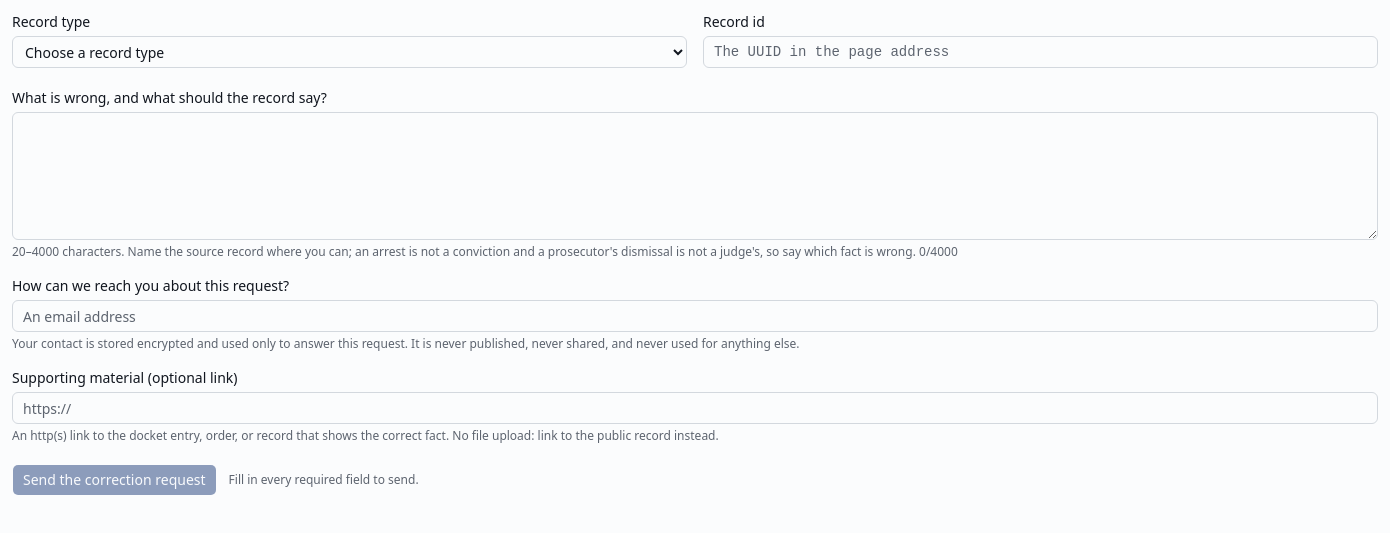
Test case: CorrectionForm › offers an editable target when nothing is prefilled
Select "Court" in the dropdown with test id "target-type" at (350, 52), box [12, 36, 687, 68]
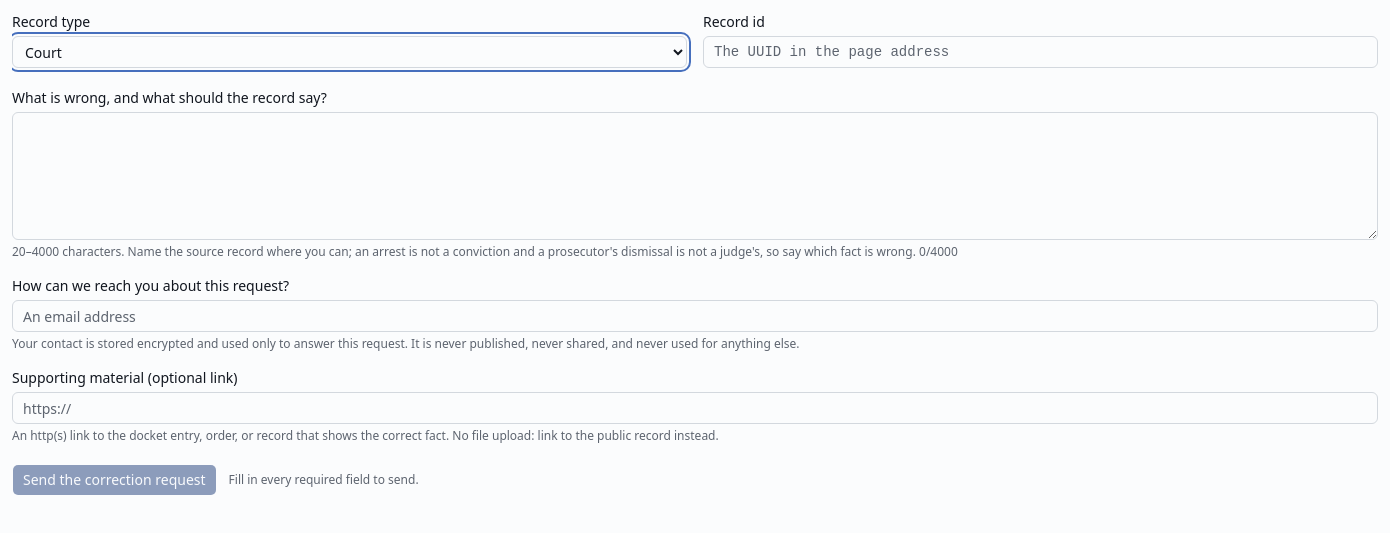
Type "not-a-uuid" into the field with test id "target-id".
click(1040, 52); type("not-a-uuid")  # box [703, 36, 1378, 68]
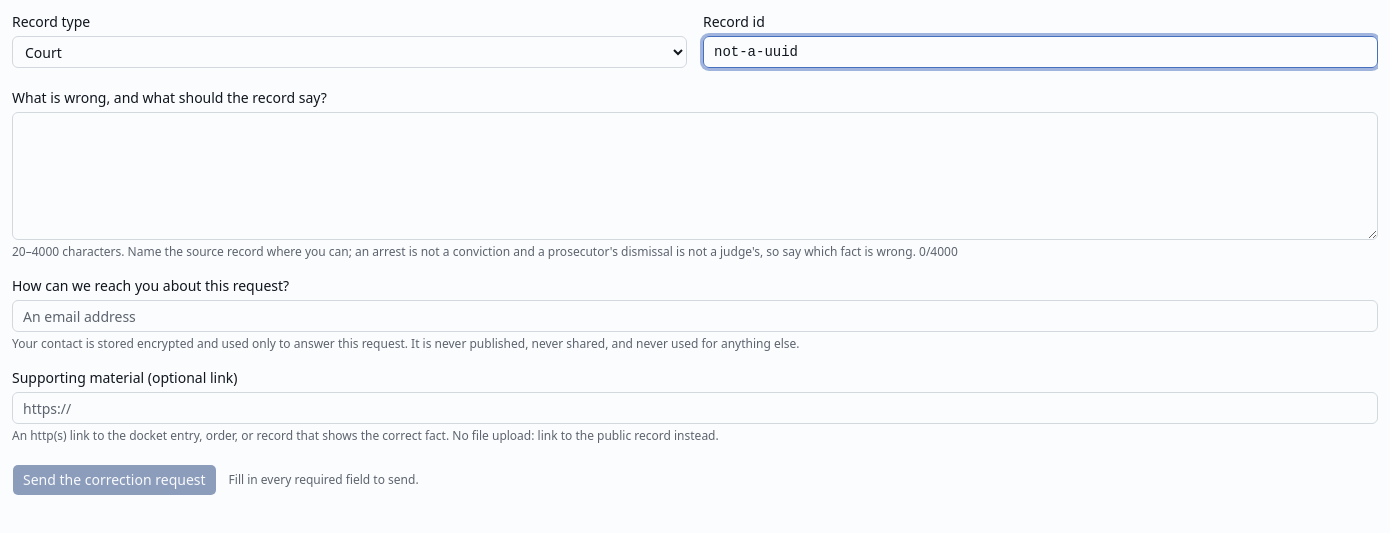
Press Tab
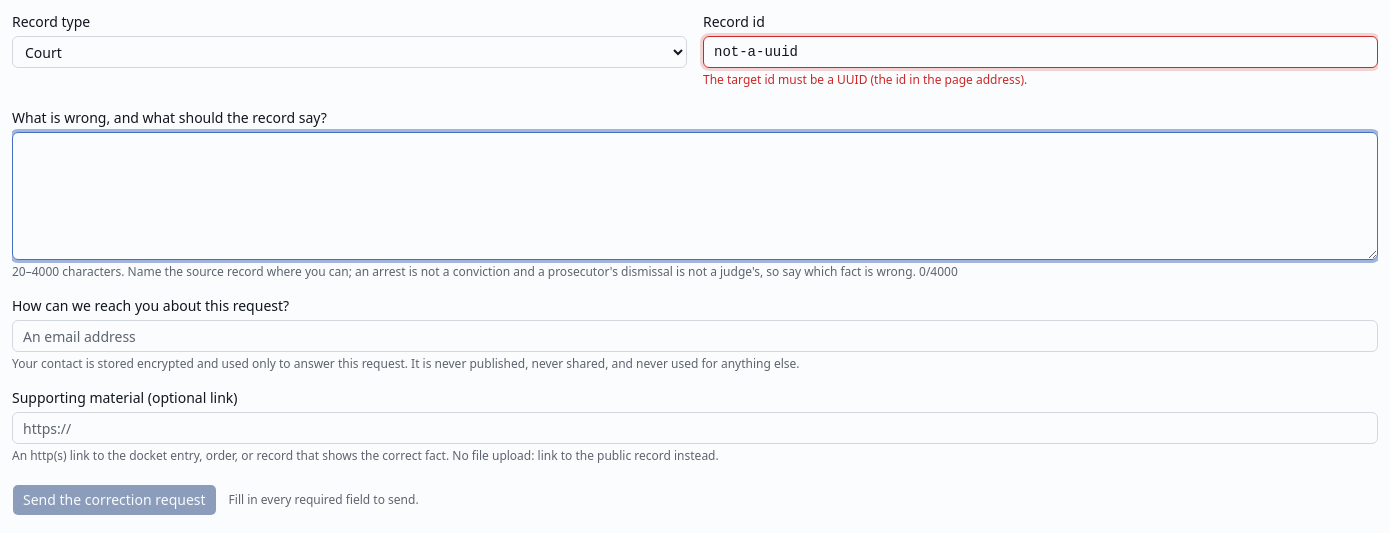
Expected: the button with test id "submit-correction" is disabled, [12, 484, 217, 516]
Now the message with test id "field-error" shows "must be a UUID", box [703, 71, 1027, 88]
